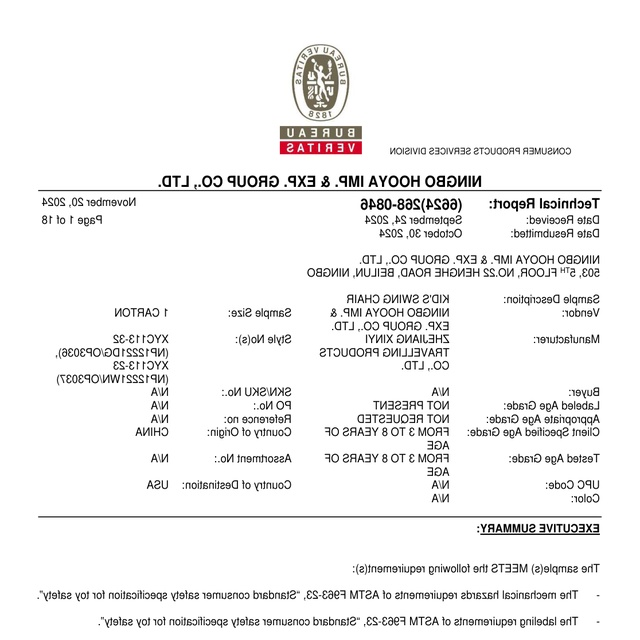bureau_veritas: (278, 42, 366, 157)
